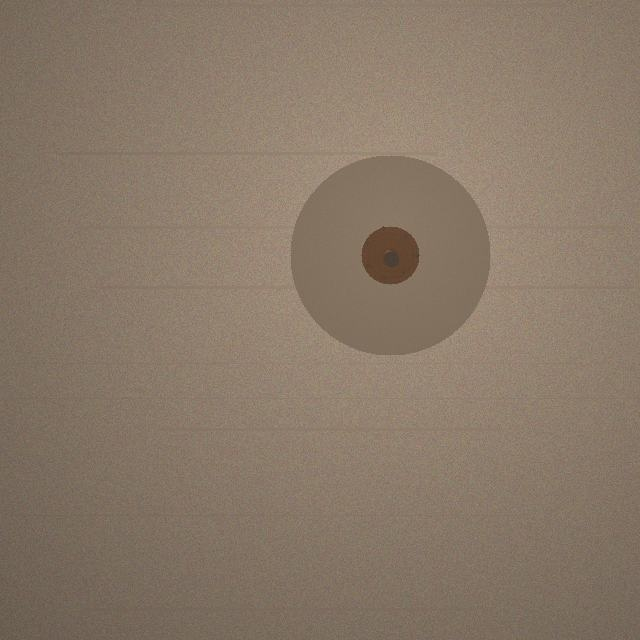cold_weld: (290, 155, 490, 355)
